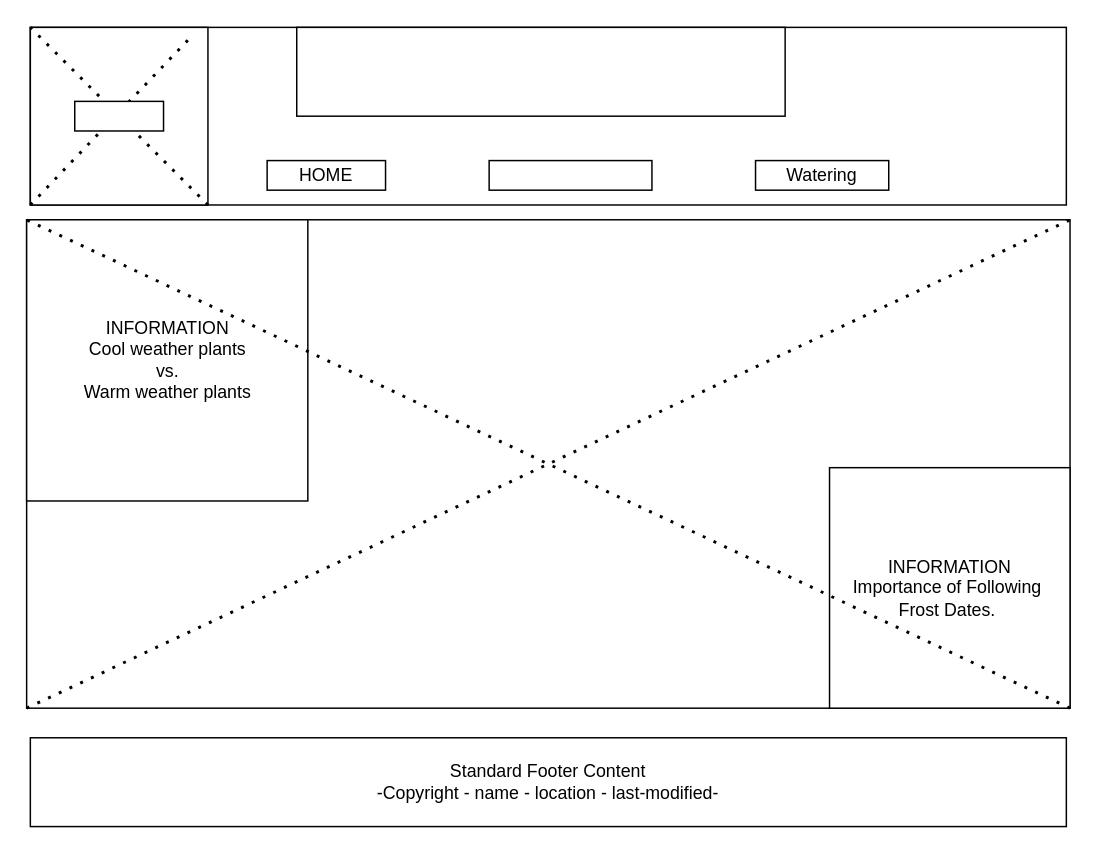
Image size: 1098x852. Some labels were removed from this diagram. The shapes that lost their labels are listed below. From the top down, each one's centre as x and y in pixels, then its label:
the point at 540,71: Company Name
the point at 118,115: LOGO
the point at 570,174: PLANNING
